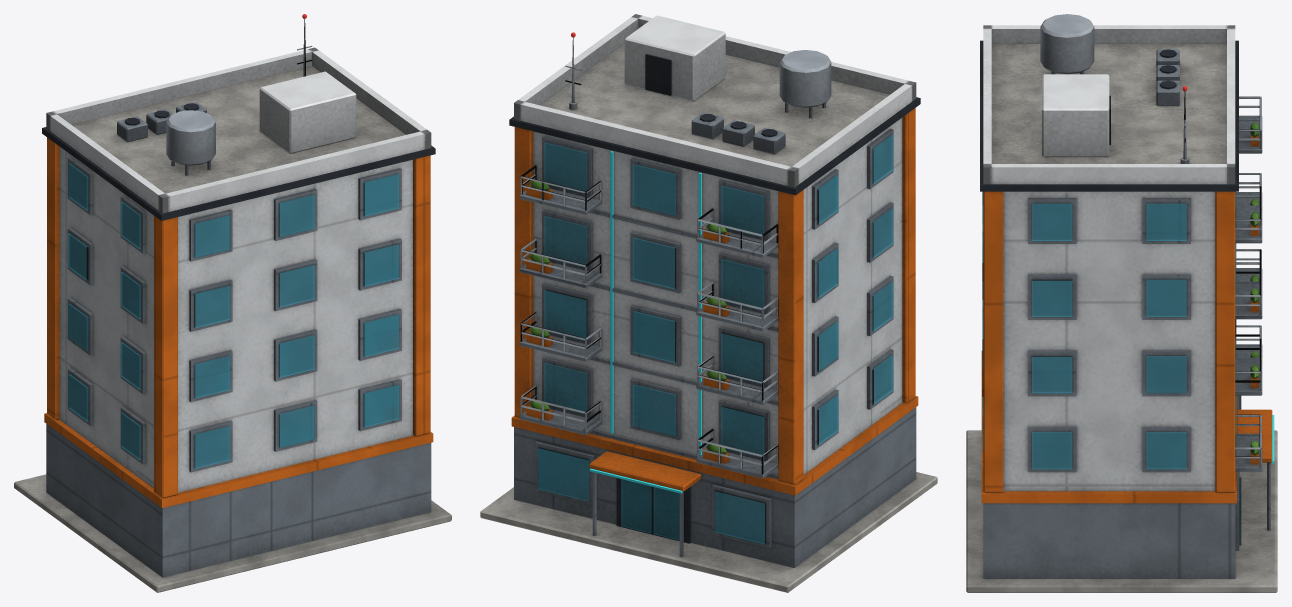
The model's file is edificio_residencial.fbx.
The picture shows the model from 3 angles, left to right: view 1: azimuth 30°, elevation 25°; view 2: azimuth 150°, elevation 25°; view 3: azimuth 270°, elevation 25°; orthographic projection. The views are drawn at different scales.
Visible parts, largest first — view 1: edificio_residencial, edificio_residencial_cristal; view 2: edificio_residencial, edificio_residencial_cristal, edificio_residencial_neon; view 3: edificio_residencial, edificio_residencial_cristal.
Part boxes in pixels (x1,y1,x2,y2): edificio_residencial: (14, 19, 451, 592); edificio_residencial_cristal: (68, 163, 399, 468); edificio_residencial: (480, 14, 937, 592); edificio_residencial_cristal: (537, 135, 893, 544); edificio_residencial_neon: (589, 151, 701, 493); edificio_residencial: (966, 14, 1277, 592); edificio_residencial_cristal: (982, 191, 1241, 545).
Bounding box in the file's own units: 22 × 31.67 × 18.5.
3 materials, 3 textured.
